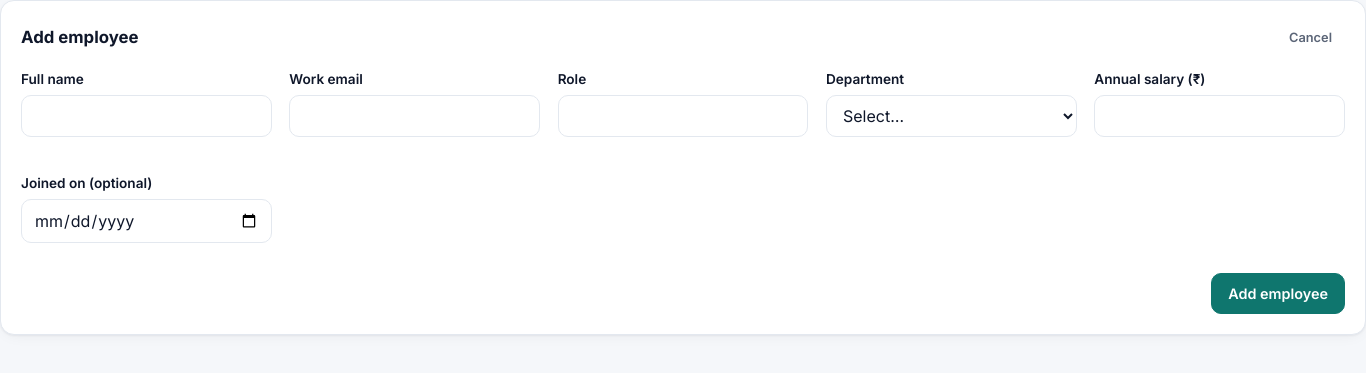
EmployeeForm › shows a duplicate-email conflict (409) next to the email field
Type "  Asha Rao " into the field labelled "Full name". click: (146, 116)
box: [21, 95, 272, 137]
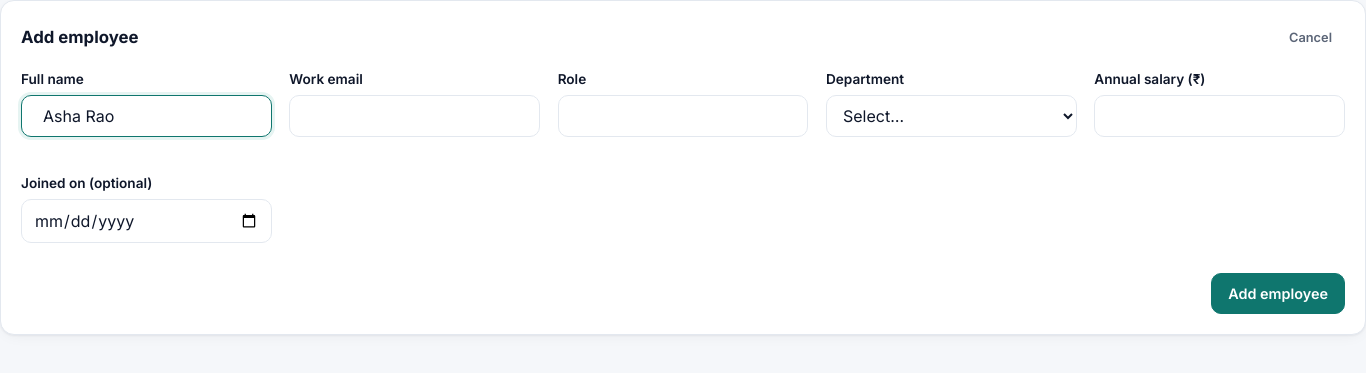
Type "asha.rao@teamdesk.dev" into the field labelled "Work email". click: (415, 116)
box: [289, 95, 540, 137]
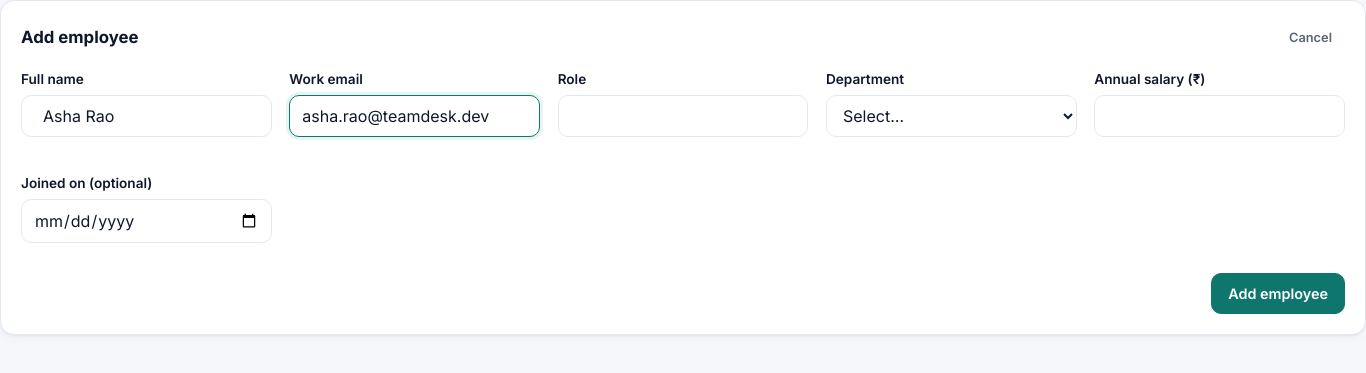
Type "Backend Engineer" into the field labelled "Role". click: (683, 116)
box: [558, 95, 808, 137]
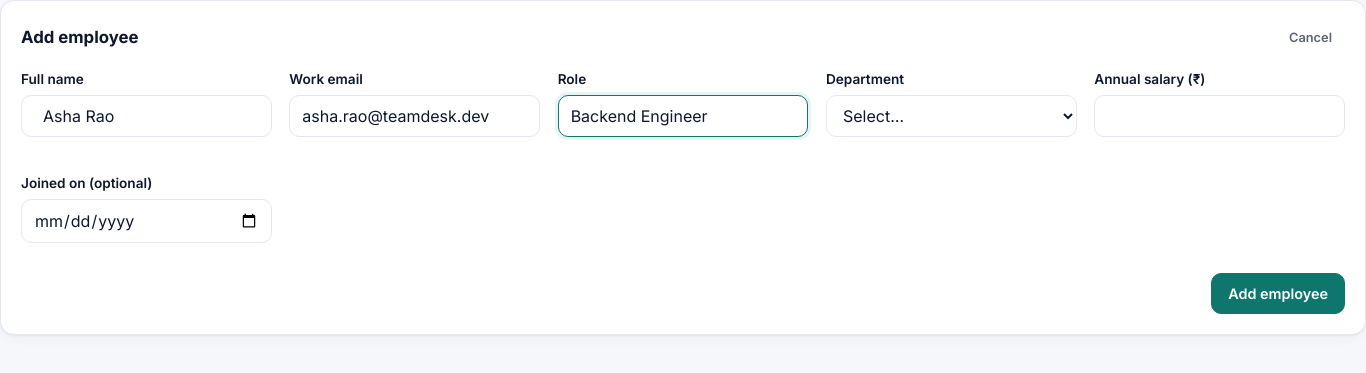
Select "Design" in the dropdown labelled "Department". click: (951, 116)
box: [826, 95, 1077, 137]
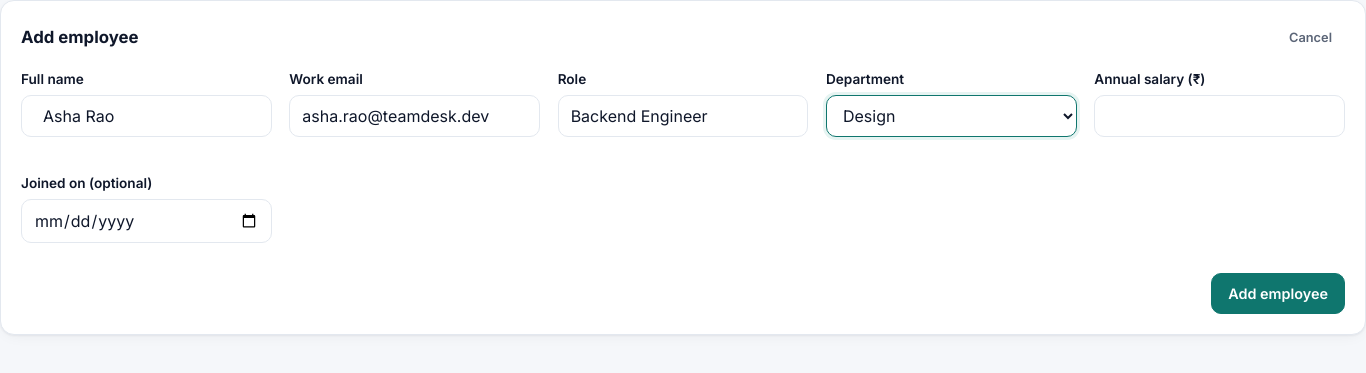
Type "1450000" into the number field labelled "Annual salary (₹)". click: (1220, 116)
box: [1094, 95, 1345, 137]
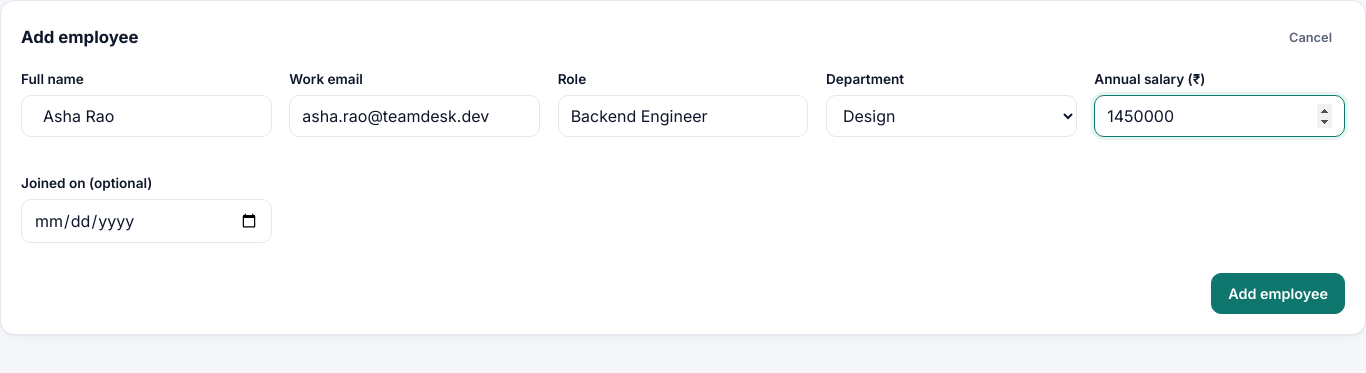
Click the button "Add employee". click: (1278, 294)
box: [1211, 273, 1345, 314]
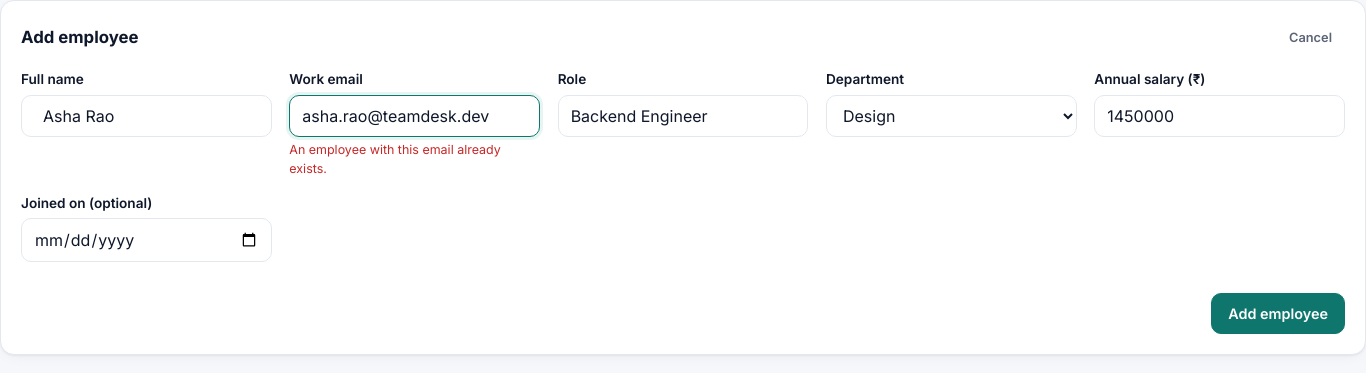
Result: the text "An employee with this email already exists." is shown at [289, 142, 501, 176]
